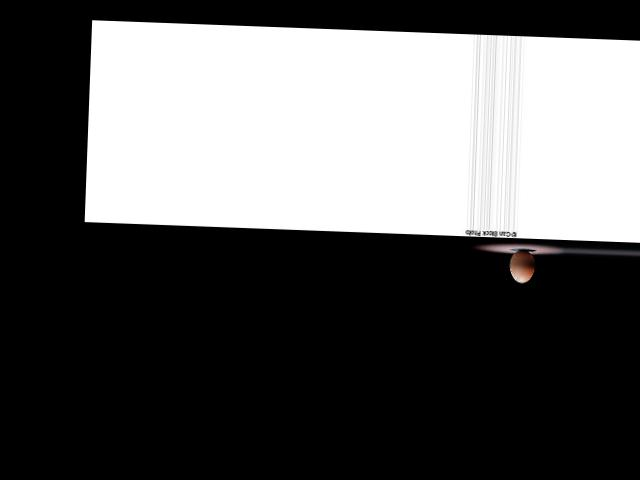egg: (508, 249, 535, 283)
